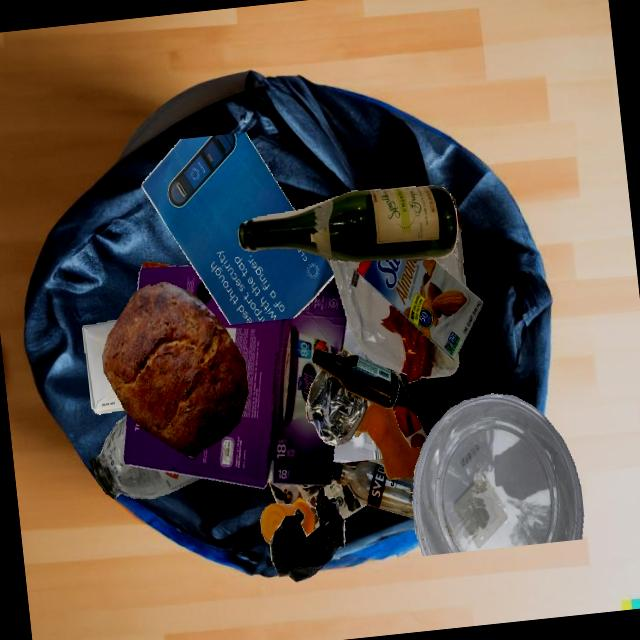biowaste: (101, 281, 248, 456), (354, 402, 421, 479)
cardboard: (123, 265, 346, 488), (356, 258, 482, 360)
glass: (237, 185, 457, 261), (90, 414, 201, 498), (312, 348, 399, 408), (331, 461, 414, 518)
metal: (306, 368, 367, 446)
paper: (141, 132, 334, 325), (285, 366, 385, 484), (274, 478, 367, 530), (82, 319, 124, 414), (385, 366, 427, 447)
plastic: (412, 393, 583, 556), (330, 258, 458, 383), (269, 488, 344, 582), (260, 497, 314, 544), (342, 319, 385, 368), (332, 425, 382, 463), (353, 355, 367, 425), (141, 261, 171, 268)
